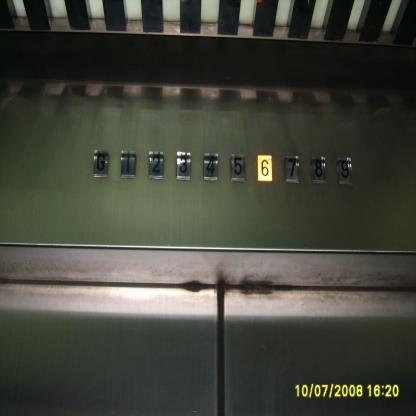1: (119, 149, 137, 179)
2: (147, 149, 164, 180)
3: (175, 150, 191, 181)
4: (203, 152, 218, 181)
5: (230, 153, 246, 182)
6: (256, 154, 272, 182)
7: (283, 155, 300, 183)
8: (310, 156, 326, 184)
9: (336, 156, 353, 184)
G: (92, 149, 109, 179)
